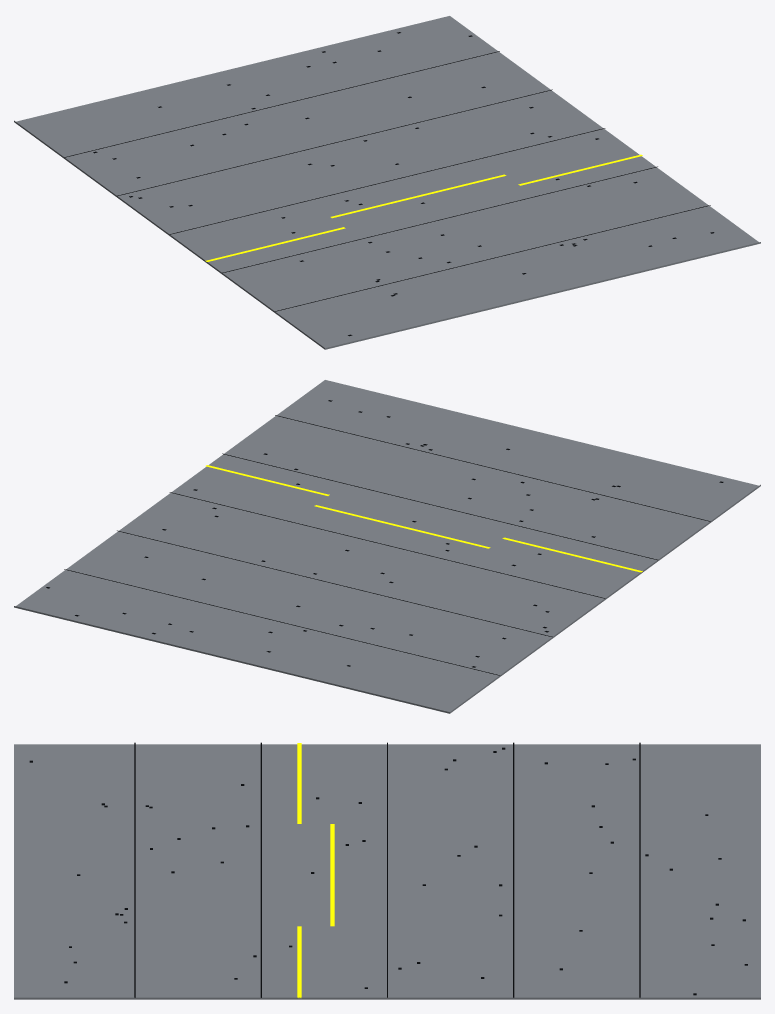
Rendered from v3_river_floor.glb.
3 renders of one model, top to bottom at view 1: azimuth 30°, elevation 25°; view 2: azimuth 150°, elevation 25°; view 3: azimuth 270°, elevation 25°, orthographic. The views are drawn at different scales.
Parts seen in each view (by area): view 1: Terrazzo, Joint_Lines, River_Inlay; view 2: Terrazzo, Joint_Lines, River_Inlay; view 3: Terrazzo, Joint_Lines, River_Inlay, Terrazzo_Chips.
Part boxes in pixels (x1,y1,x2,y2): Terrazzo: [14, 16, 760, 349]; Joint_Lines: [64, 51, 710, 311]; River_Inlay: [205, 154, 642, 261]; Terrazzo: [14, 380, 760, 713]; Joint_Lines: [64, 415, 710, 675]; River_Inlay: [205, 465, 642, 572]; Terrazzo: [14, 744, 760, 999]; Joint_Lines: [134, 742, 640, 997]; River_Inlay: [297, 743, 334, 997]; Terrazzo_Chips: [29, 747, 747, 995].
Size of what is drawn, in the model's own units: 5.5 by 0.022 by 6.8.
4 materials, 2 textured.
